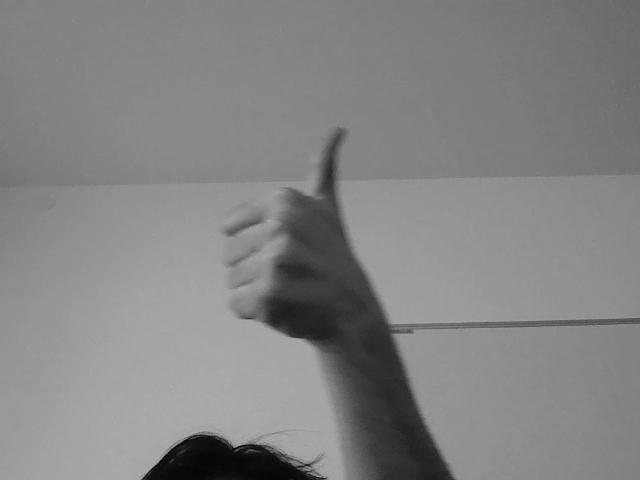friend: (210, 122, 382, 359)
